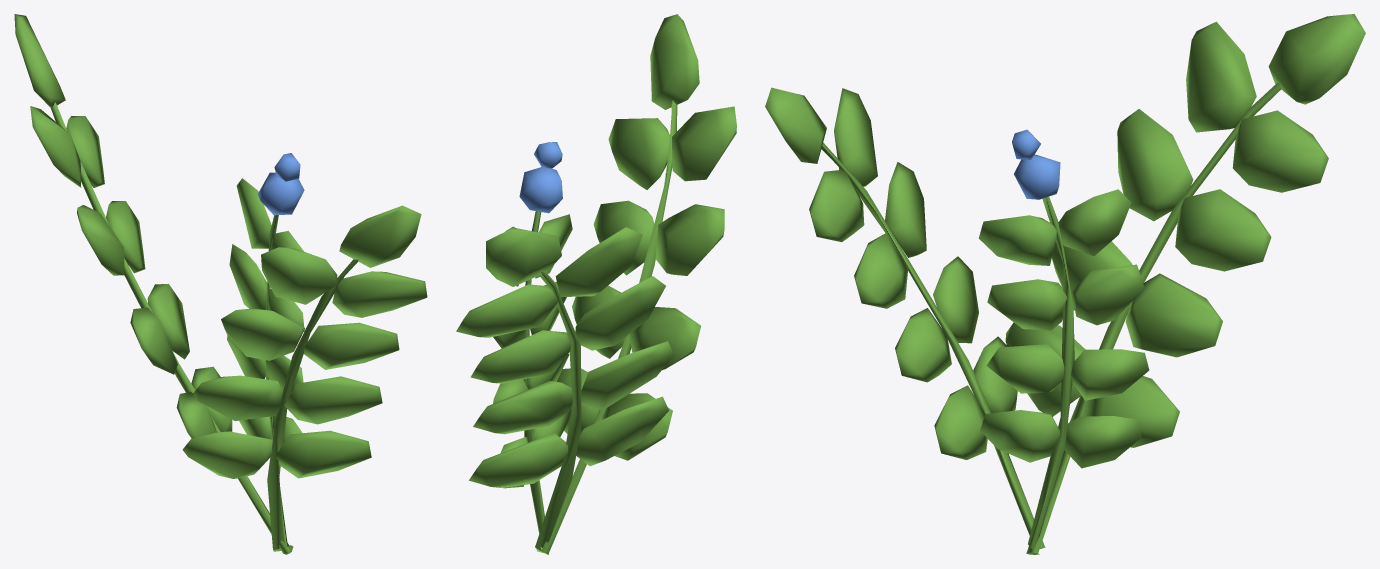
The model's file is Plant_7.fbx.
3 renders of one model, left to right at view 1: azimuth 30°, elevation 25°; view 2: azimuth 150°, elevation 25°; view 3: azimuth 270°, elevation 25°, orthographic. The views are drawn at different scales.
Parts seen in each view (by area): view 1: Plant_7; view 2: Plant_7; view 3: Plant_7.
Part boxes in pixels (bbox=[...]): Plant_7: bbox=[14, 14, 427, 554]; Plant_7: bbox=[456, 14, 736, 554]; Plant_7: bbox=[765, 14, 1365, 554].
Bounding box in the file's own units: 65.47 × 131 × 149.
